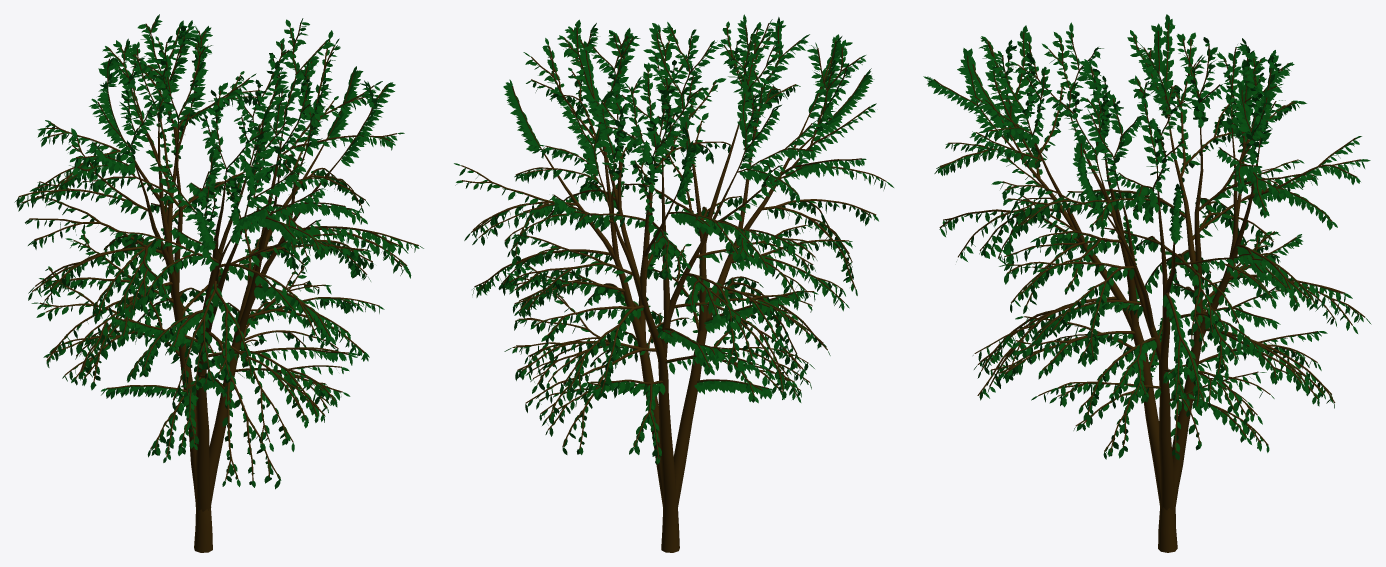
The model's file is broadleaf_tree.fbx.
3 renders of one model, left to right at view 1: azimuth 30°, elevation 25°; view 2: azimuth 150°, elevation 25°; view 3: azimuth 270°, elevation 25°, orthographic.
Visible parts, largest first — view 1: broadleaf_tree; view 2: broadleaf_tree; view 3: broadleaf_tree.
Part boxes in pixels (x1,y1,x2,y2): broadleaf_tree: (14, 14, 423, 552); broadleaf_tree: (454, 14, 893, 552); broadleaf_tree: (923, 14, 1371, 552).
Bounding box in the file's own units: 146 × 130 × 184.
